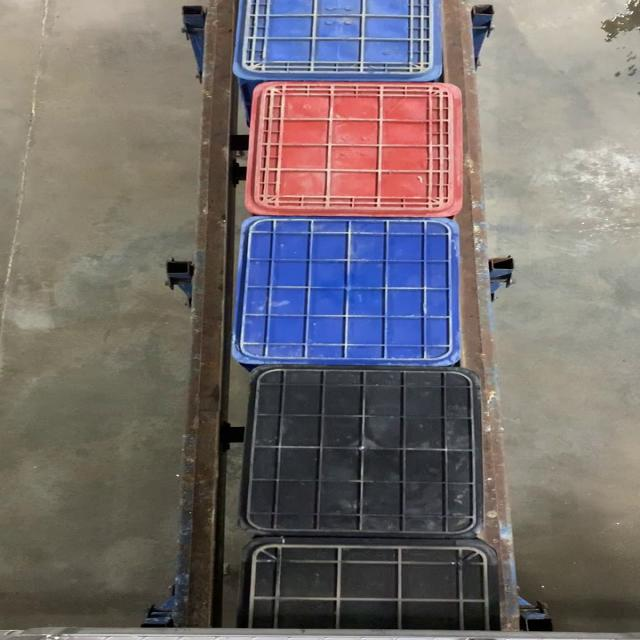Box: (240, 366, 484, 538), (234, 218, 461, 366), (247, 78, 461, 218)
